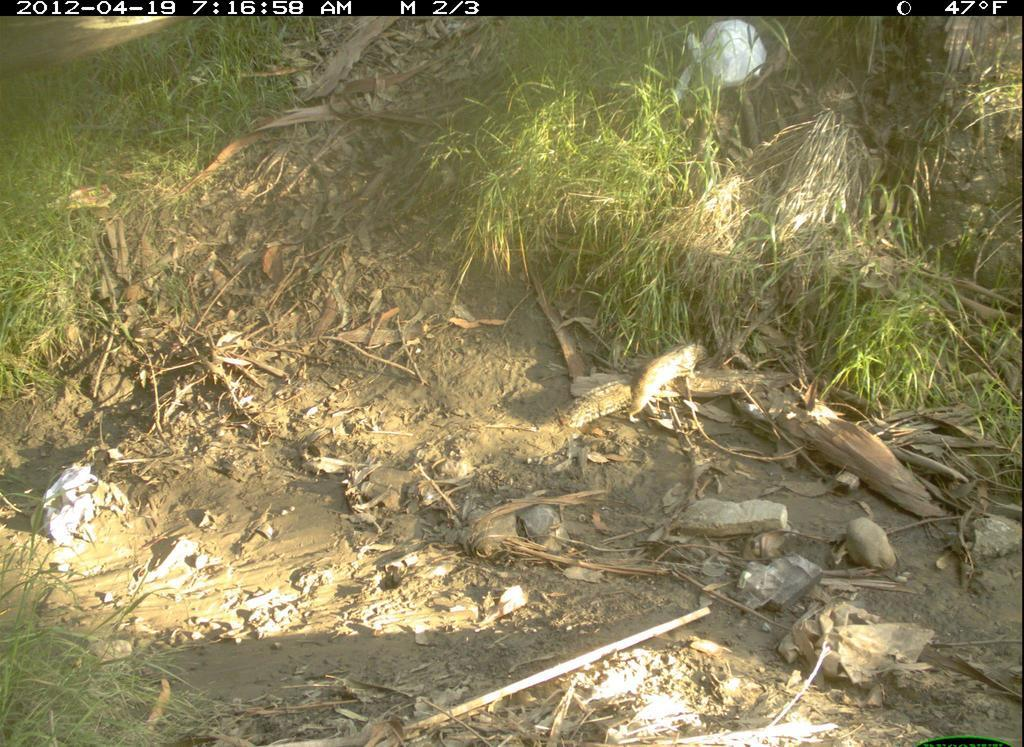squirrel: (573, 331, 708, 424)
